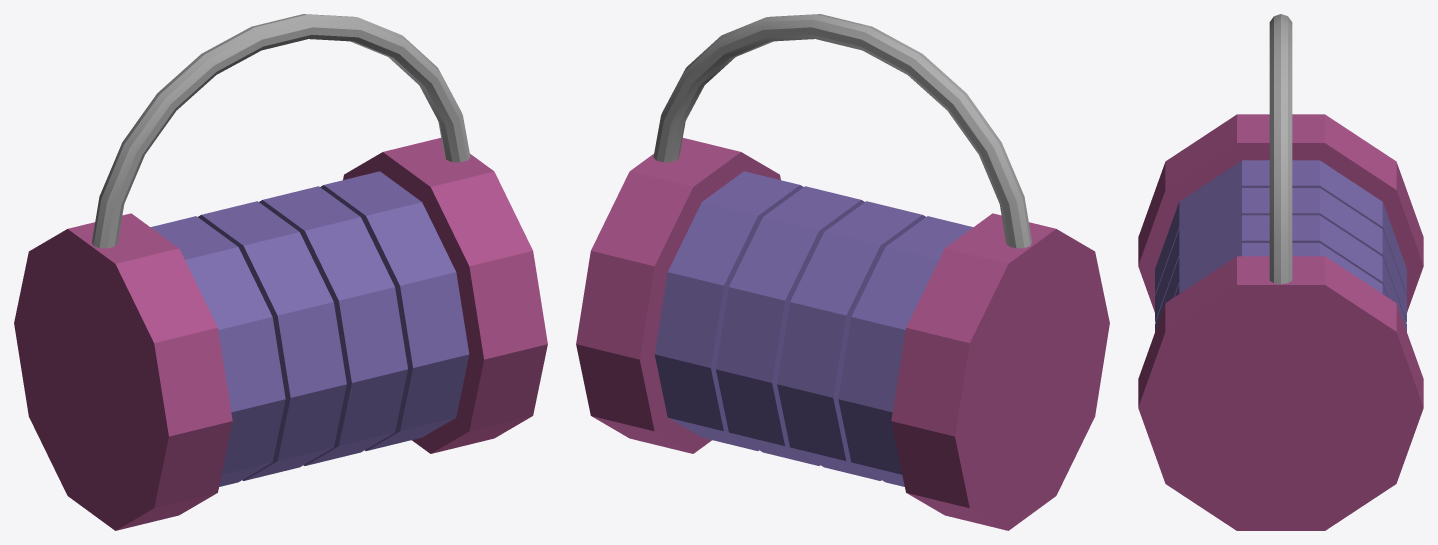
Rendered from PadLock.fbx.
The picture shows the model from 3 angles, left to right: view 1: azimuth 30°, elevation 25°; view 2: azimuth 150°, elevation 25°; view 3: azimuth 270°, elevation 25°; orthographic projection. The views are drawn at different scales.
Parts seen in each view (by area): view 1: OuterLock, Dial1, Dial3, Dial2, Dial, Shackle; view 2: OuterLock, Dial1, Dial3, Dial2, Dial, Shackle; view 3: OuterLock, Dial, Dial1, Shackle, Dial2, Dial3.
Part boxes in pixels (<box>): OuterLock: <box>14,138,547,530</box>; Dial1: <box>198,201,346,480</box>; Dial3: <box>320,171,469,450</box>; Dial2: <box>259,186,407,465</box>; Dial: <box>150,216,285,486</box>; Shackle: <box>92,14,470,248</box>; OuterLock: <box>576,138,1109,530</box>; Dial1: <box>777,201,925,480</box>; Dial3: <box>654,171,803,450</box>; Dial2: <box>716,186,864,465</box>; Dial: <box>838,216,973,486</box>; Shackle: <box>653,14,1031,248</box>; OuterLock: <box>1138,114,1423,530</box>; Dial: <box>1155,160,1406,294</box>; Dial1: <box>1155,188,1406,322</box>; Shackle: <box>1269,14,1292,283</box>; Dial2: <box>1155,215,1406,331</box>; Dial3: <box>1175,243,1386,296</box>.
Bounding box in the file's own units: 341 × 383 × 241.
